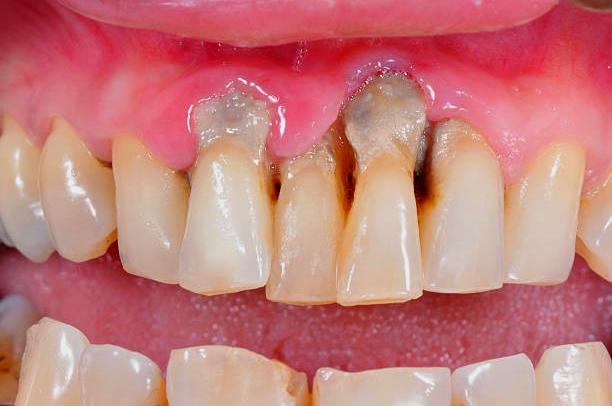Caries: (349, 62, 448, 173), (190, 88, 283, 197)
